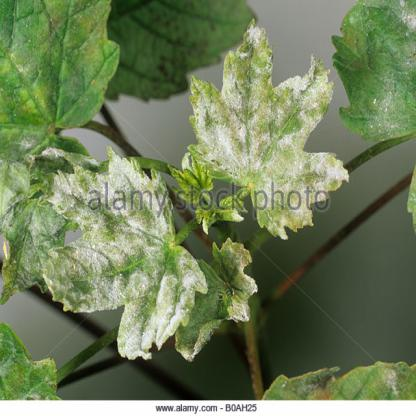Squash Powdery mildew leaf: (183, 16, 362, 234), (36, 152, 198, 365)
